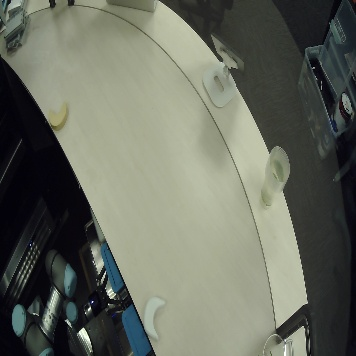empty_cup: (260, 146, 290, 209)
puck: (144, 296, 166, 340), (48, 101, 69, 131)
